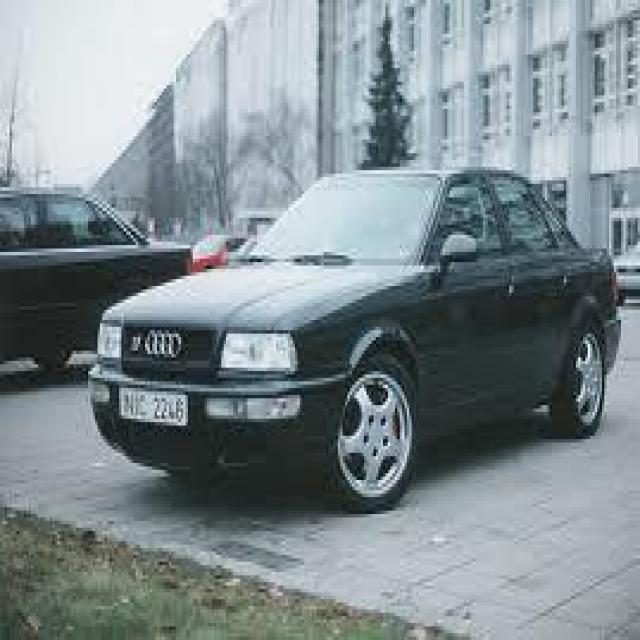Car: (83, 98, 628, 592)
